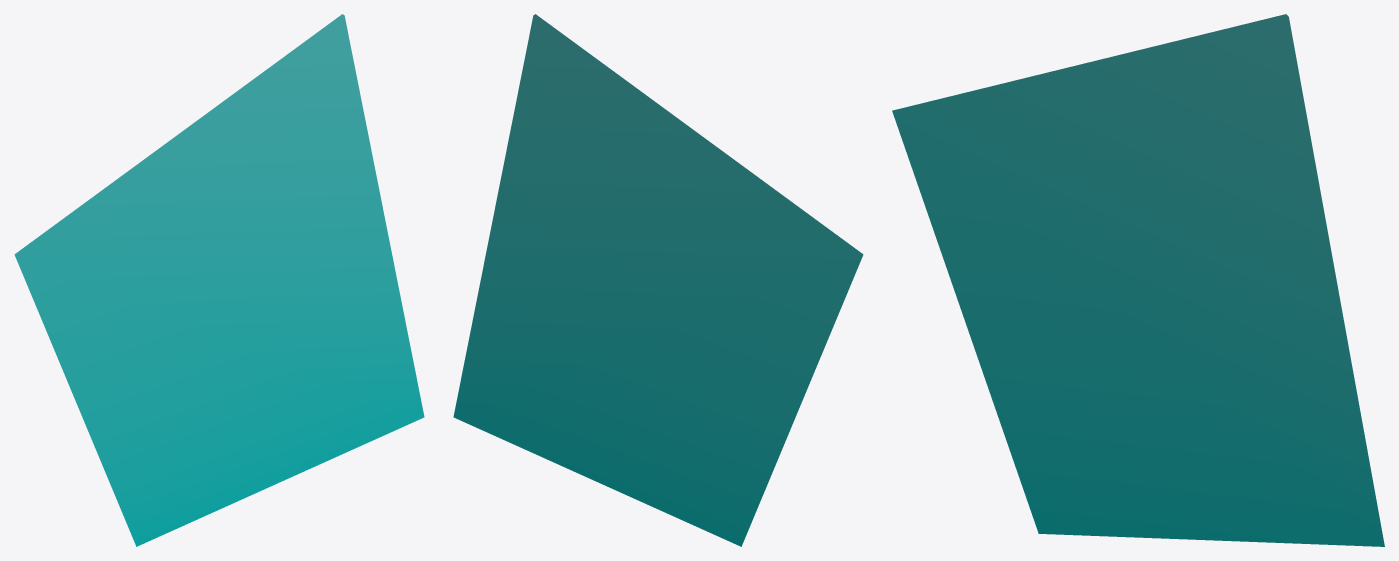
Rendered from Creeping_Saltbush_thckfiqr_Mid_thckfiqr_VarC_LOD3.fbx.
The picture shows the model from 3 angles, left to right: view 1: azimuth 30°, elevation 25°; view 2: azimuth 150°, elevation 25°; view 3: azimuth 330°, elevation 25°; orthographic projection. The views are drawn at different scales.
Parts seen in each view (by area): view 1: _269f_VarC_LOD4; view 2: _269f_VarC_LOD4; view 3: _269f_VarC_LOD4.
Boxes of the visible parts, box(x1,y1,x2,y2) form: _269f_VarC_LOD4: box(14, 14, 424, 546); _269f_VarC_LOD4: box(453, 14, 863, 546); _269f_VarC_LOD4: box(892, 14, 1384, 546).
Size of the model in its own units: 32.28 by 36.31 by 0.
